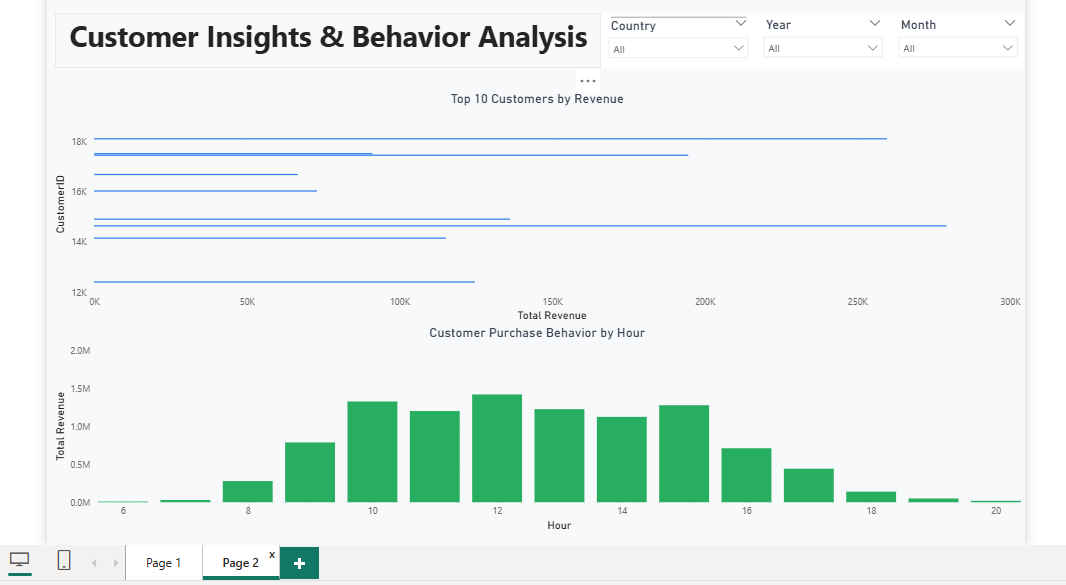

The dashboard page shown, as its layout file describes it:
{"tool":"powerbi","page":{"name":"Page 2","canvas":[1280,720],"ordinal":1},"visuals":[{"type":"clusteredBarChart","title":"Top 10 Customers by Revenue","fields":{"Y":["online_retail_cleaned.Total Revenue"],"Category":["online_retail_cleaned.CustomerID"]},"box":[4.2,125.3,1275.8,306.7],"z":0},{"type":"columnChart","title":"Customer Purchase Behavior by Hour","fields":{"Y":["online_retail_cleaned.Total Revenue"],"Category":["online_retail_cleaned.Hour"]},"box":[4.2,432,1275.8,275],"z":1000},{"type":"textbox","box":[10.1,23,715.7,72],"z":2000},{"type":"slicer","fields":{"Values":["online_retail_cleaned.Month"]},"box":[1104.3,23,175.7,72],"z":3000},{"type":"slicer","fields":{"Values":["online_retail_cleaned.Year"]},"box":[928.7,23,175.7,72],"z":4000},{"type":"slicer","fields":{"Values":["online_retail_cleaned.Country"]},"box":[725.7,23,203,72],"z":5000}]}

Visuals, with their boxes on the page's 1280x720 design canvas (x1, y1, x2, y2). These are canvas units, not pixel positions in the 1066x585 screenshot, which may show the page scaled, cropped or inside an application window:
"Top 10 Customers by Revenue" clusteredBarChart: box=[4, 125, 1280, 432]
"Customer Purchase Behavior by Hour" columnChart: box=[4, 432, 1280, 707]
textbox: box=[10, 23, 726, 95]
slicer - online_retail_cleaned.Month: box=[1104, 23, 1280, 95]
slicer - online_retail_cleaned.Year: box=[929, 23, 1104, 95]
slicer - online_retail_cleaned.Country: box=[726, 23, 929, 95]
